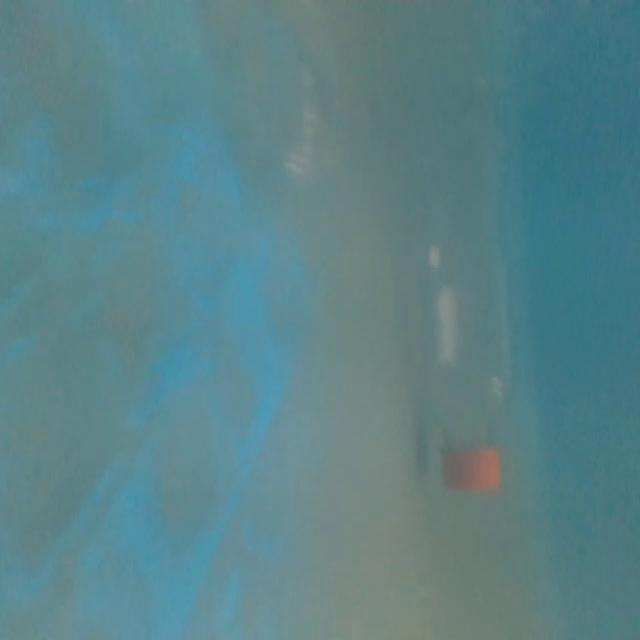plastic bottle: (417, 215, 520, 501)
